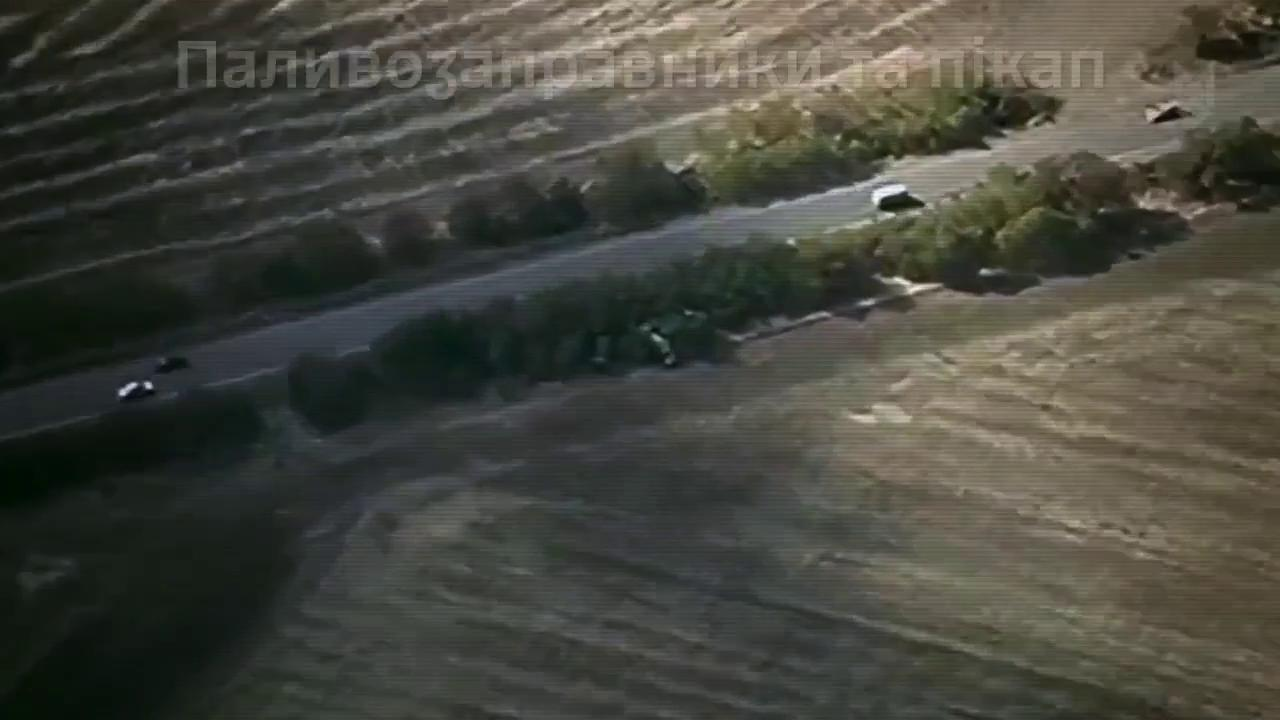tank: (624, 306, 710, 373)
